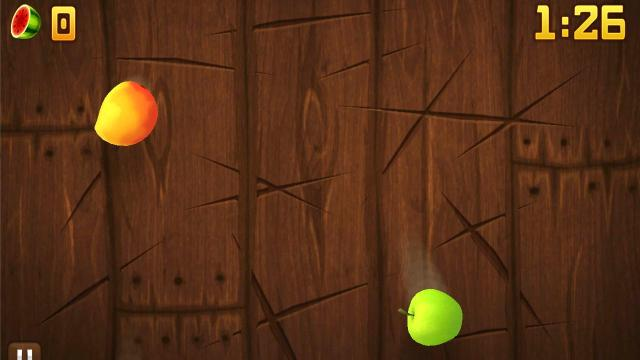fruit: (94, 80, 160, 146), (406, 288, 464, 346)
ignore: (9, 3, 43, 41)
